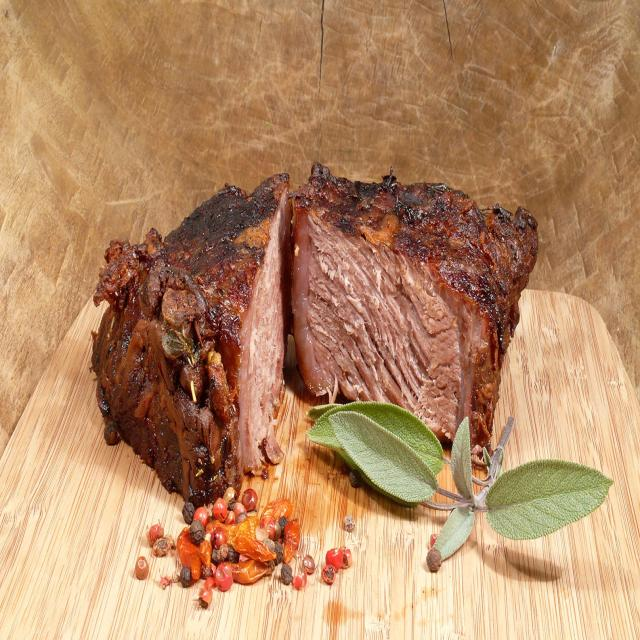carne de cerdo: (287, 138, 541, 460)
